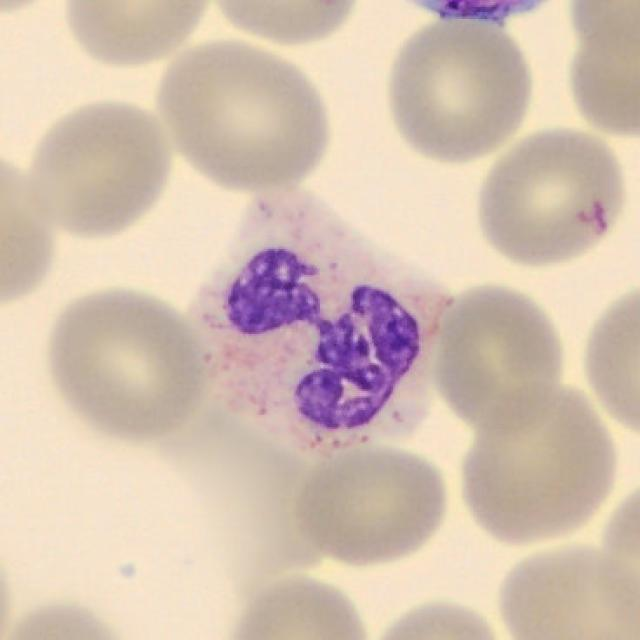Neutrofilo segmentado: (188, 189, 454, 460)
